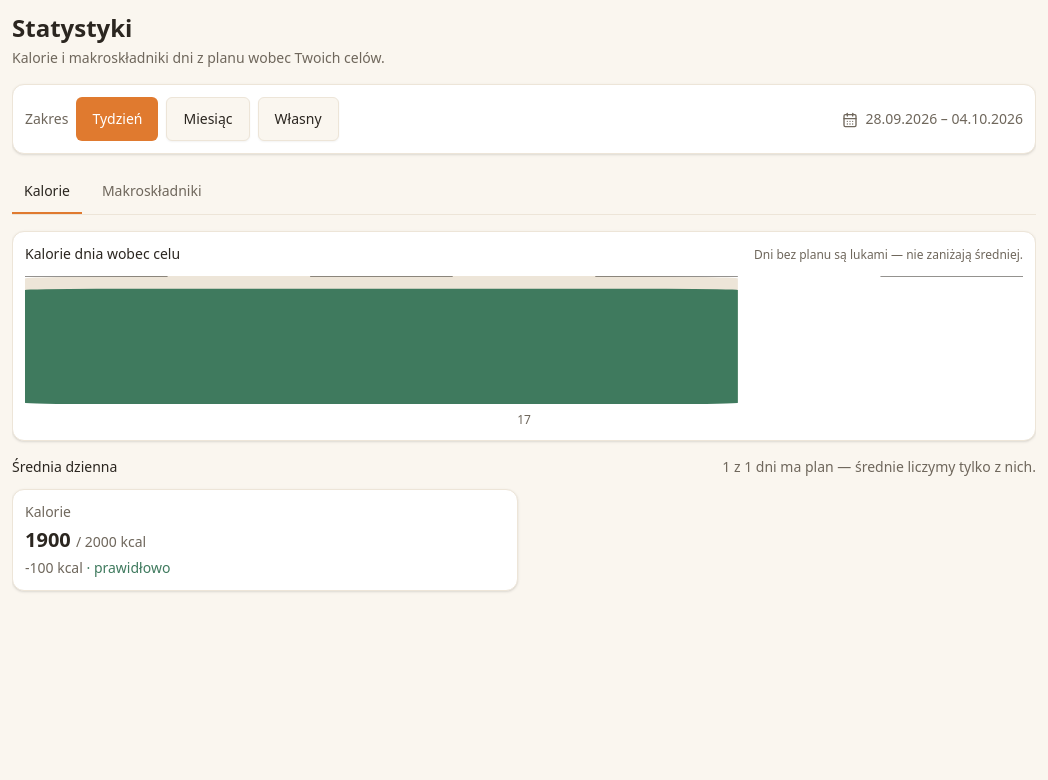
StatystykiPage › krótki zakres nie pokazuje trendu, ale mówi dlaczego
The image size is (1048, 780).
Click the tab with test id "stats-tab-macros" at x=152, y=192, box [90,170,214,214]
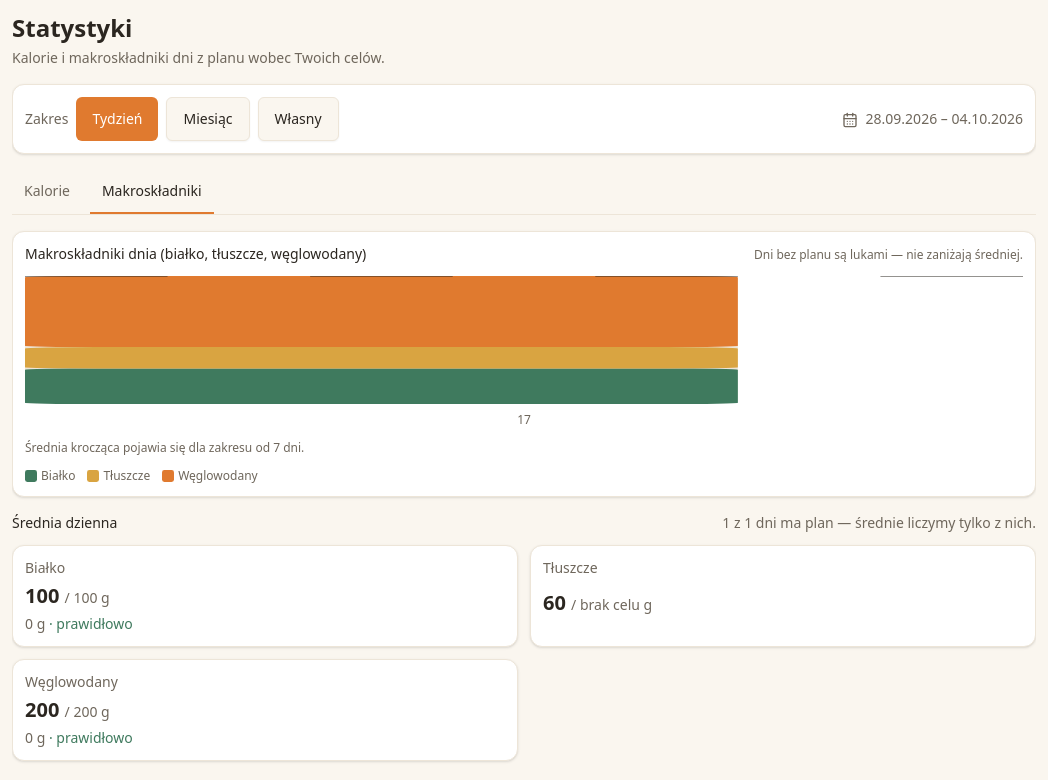
Expected: the text "Średnia krocząca pojawia się dla zakresu od 7 dni." is shown, [25,439,304,456]
